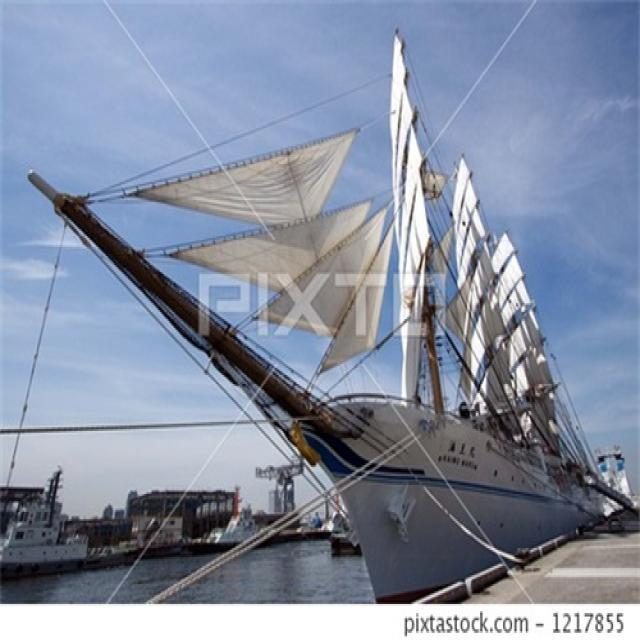Ship: (42, 28, 639, 593)
